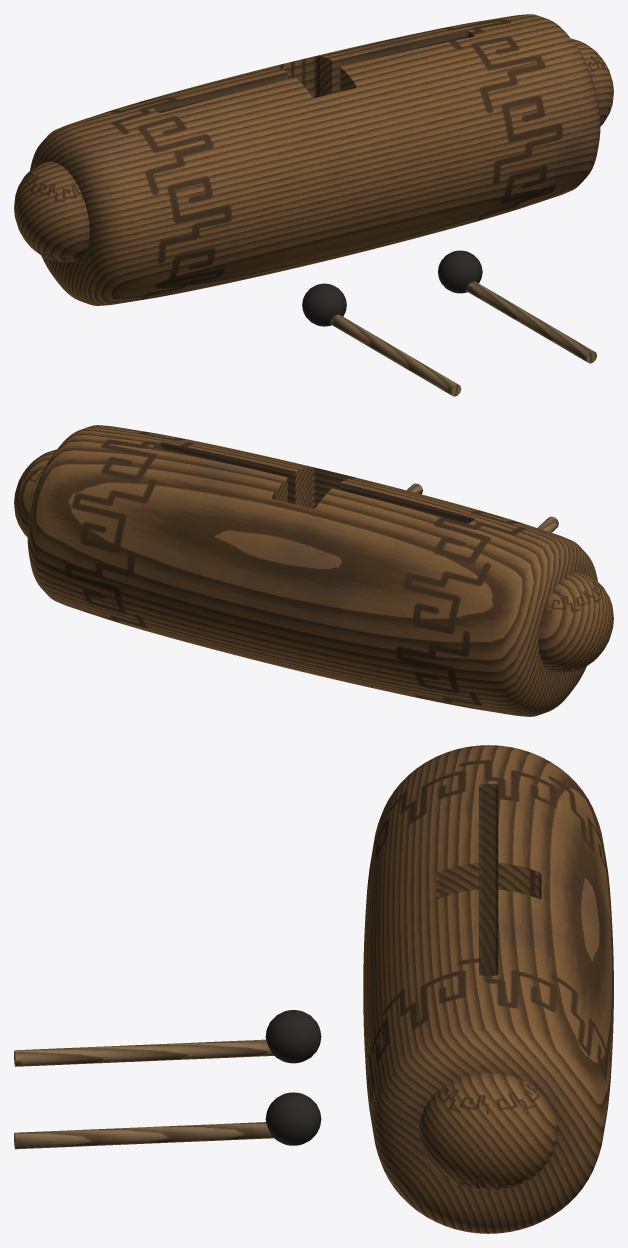
The model's file is teponaztli.glb.
3 views of the same model, one above another, from view 1: azimuth 30°, elevation 25°; view 2: azimuth 150°, elevation 25°; view 3: azimuth 270°, elevation 25° (orthographic). The views are drawn at different scales.
Parts seen in each view (by area): view 1: teponaztli; view 2: teponaztli; view 3: teponaztli.
Boxes of the visible parts, left/top/right/bottom form: teponaztli: left=14, top=14, right=613, bottom=396; teponaztli: left=14, top=425, right=613, bottom=716; teponaztli: left=14, top=745, right=613, bottom=1233.
Size of the model in its own units: 0.6 by 0.1796 by 0.4306.
Materials: 1 (1 with a texture image).
